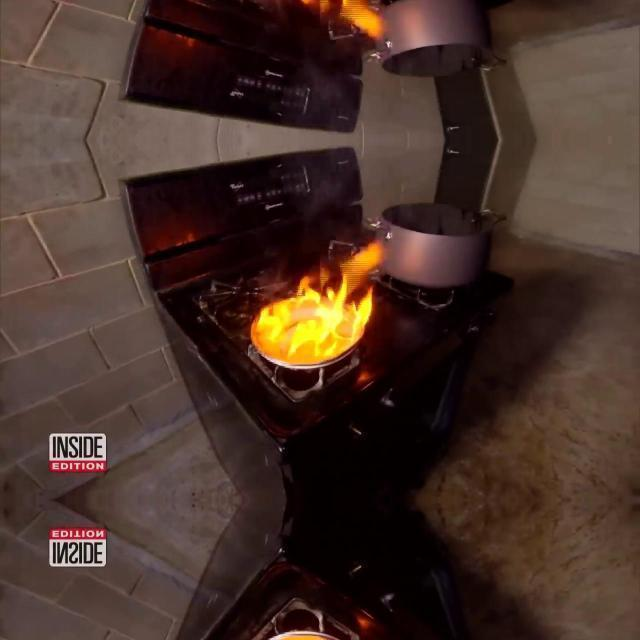smoke: (252, 238, 390, 364), (252, 0, 389, 47)
